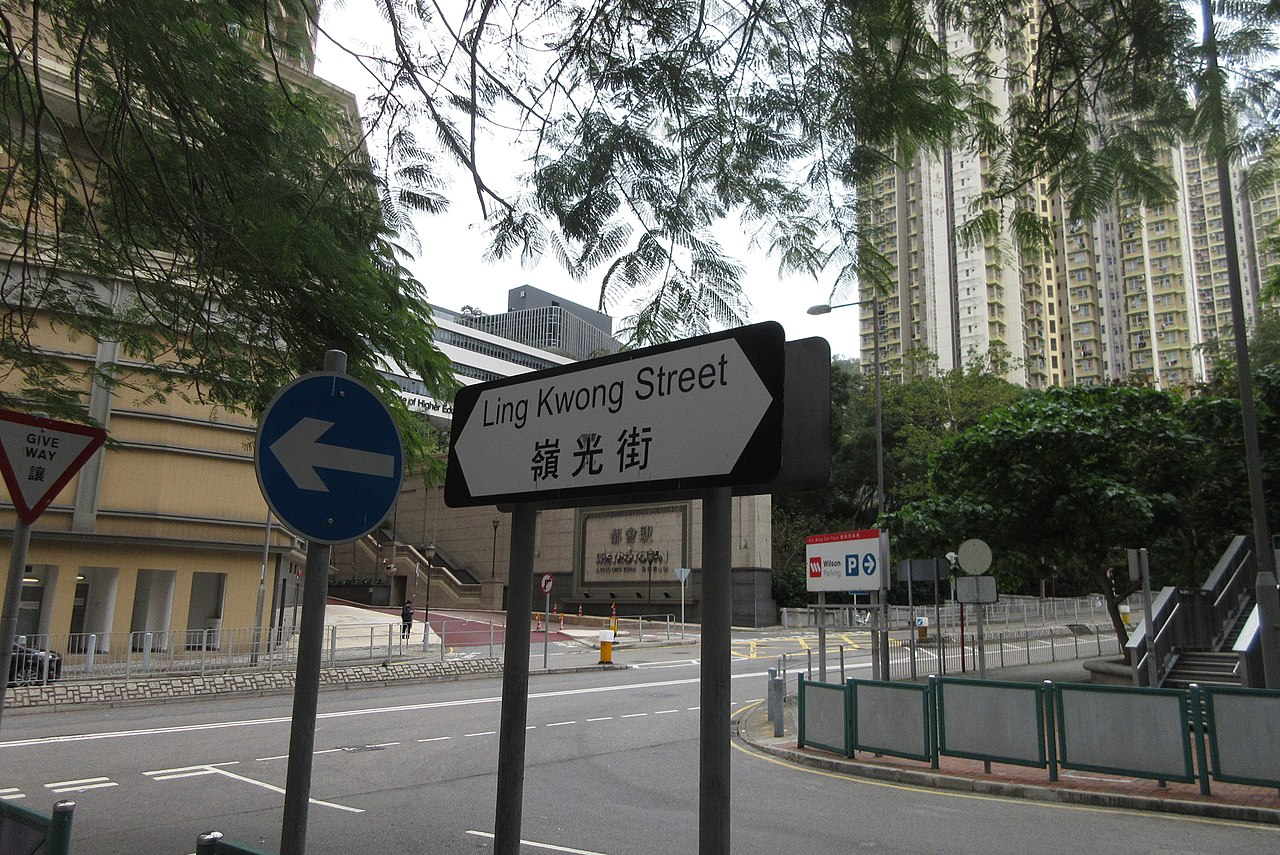Give Way: (0, 396, 100, 527)
No Turn Right: (539, 571, 555, 593)
Parking: (844, 554, 859, 577)
Turn Left: (251, 360, 420, 553)
Turn Right: (861, 554, 877, 577)
